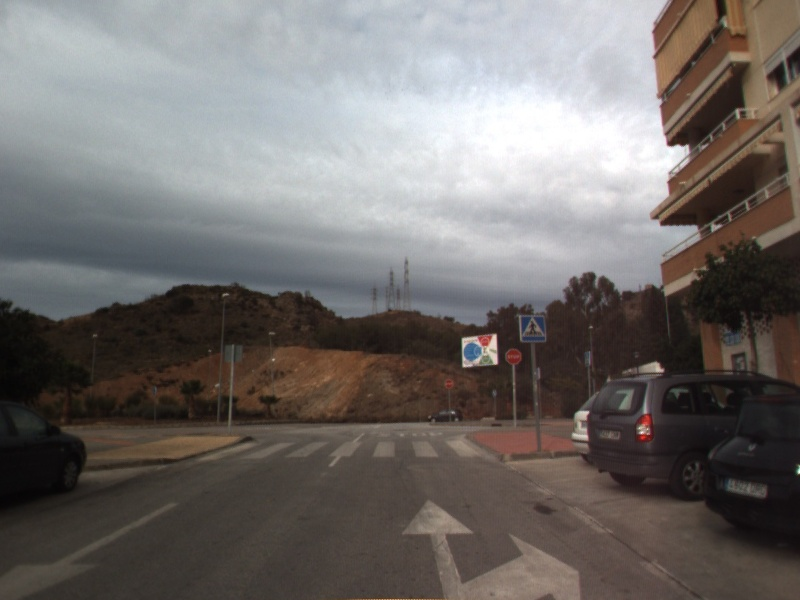STRAIGHT_RIGHT: (399, 497, 584, 600)
